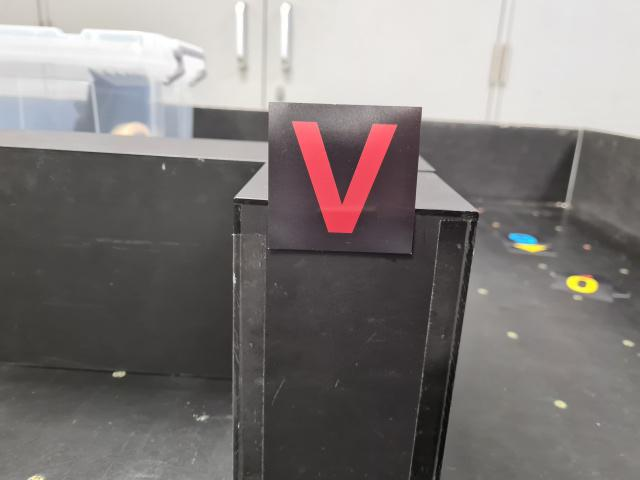v: (267, 101, 421, 256)
